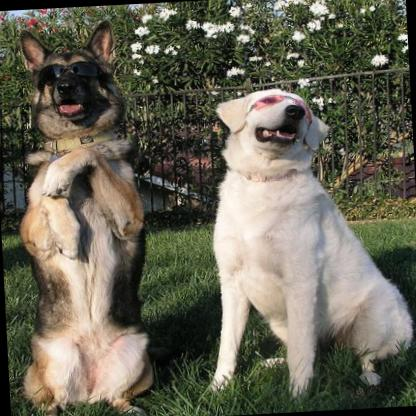kuvasz: (192, 77, 416, 403)
